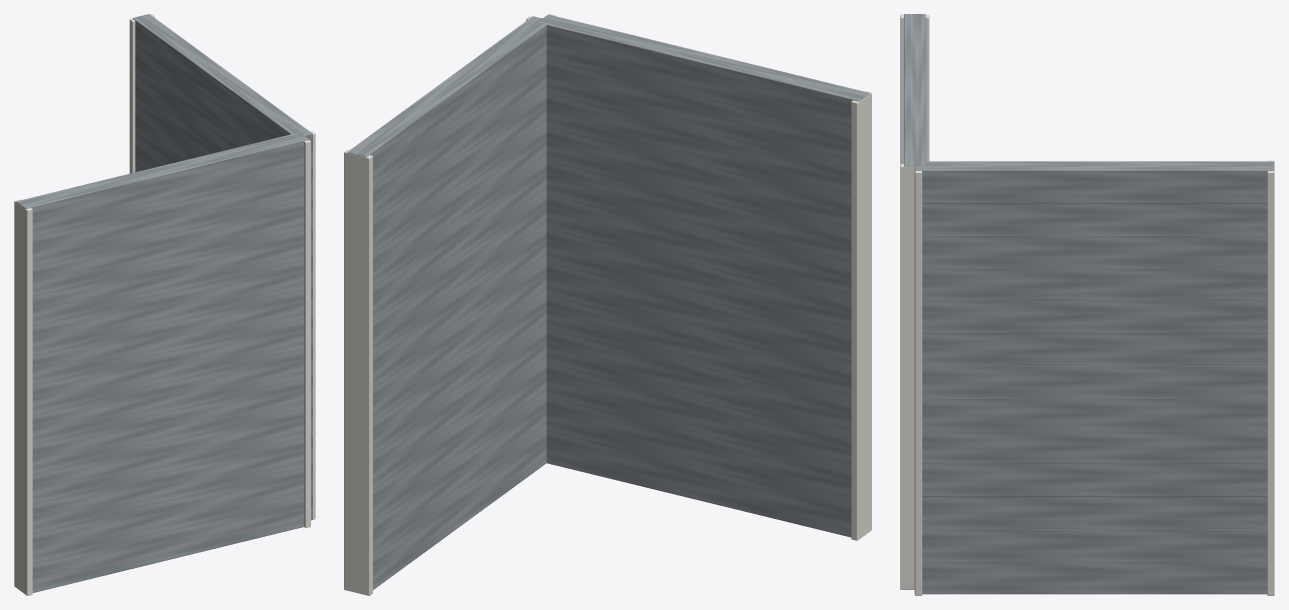
Rendered from paranormal-investigation-house-exterior-corner-4531fc47__26689.glb.
The picture shows the model from 3 angles, left to right: view 1: azimuth 30°, elevation 25°; view 2: azimuth 150°, elevation 25°; view 3: azimuth 270°, elevation 25°; orthographic projection. The views are drawn at different scales.
Visible parts, largest first — view 1: exterior-corner; view 2: exterior-corner; view 3: exterior-corner.
Boxes of the visible parts, box(x1,y1,x2,y2) form: exterior-corner: box(14, 14, 315, 595); exterior-corner: box(344, 14, 871, 595); exterior-corner: box(900, 14, 1274, 595).
Size of the model in its own units: 2.08 by 2.61 by 2.08.
Materials: 2 (1 with a texture image).
